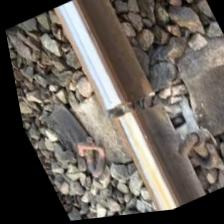person: (79, 66, 174, 155)
